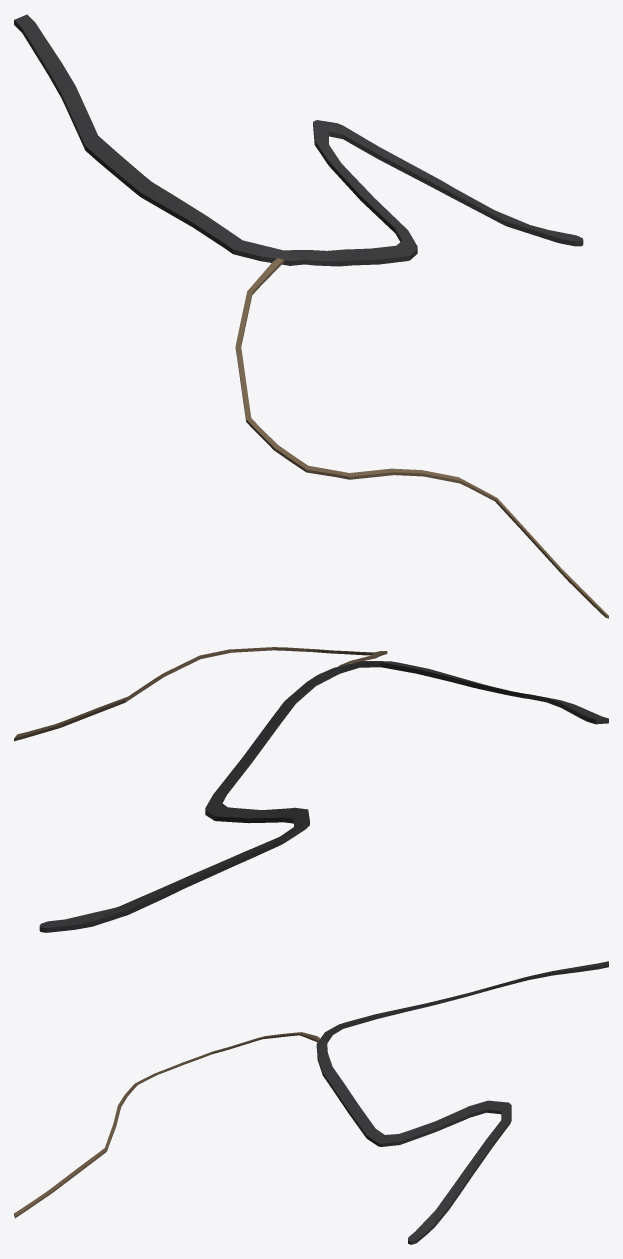
The model's file is 16-54733-29756.6b35fab4.glb.
3 renders of one model, top to bottom at view 1: azimuth 30°, elevation 25°; view 2: azimuth 210°, elevation 25°; view 3: azimuth 270°, elevation 25°, orthographic. The views are drawn at different scales.
Bounding box in the file's own units: 127 × 78.48 × 202.
